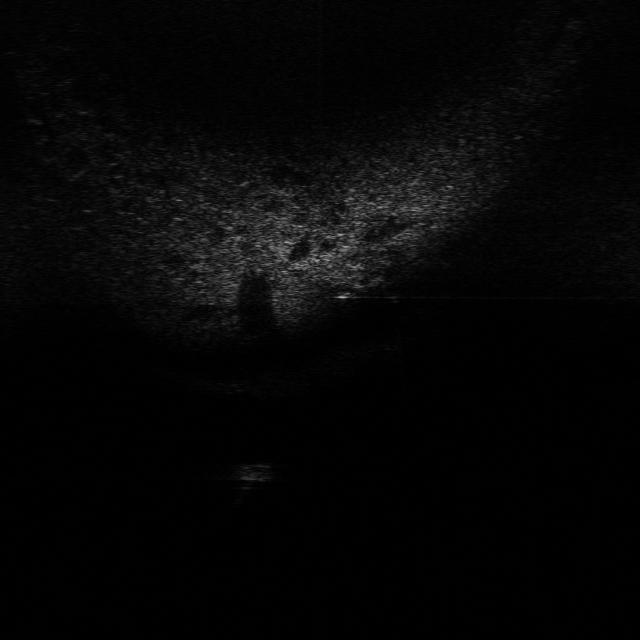ball: (372, 265, 407, 304)
cube: (222, 455, 283, 487)
